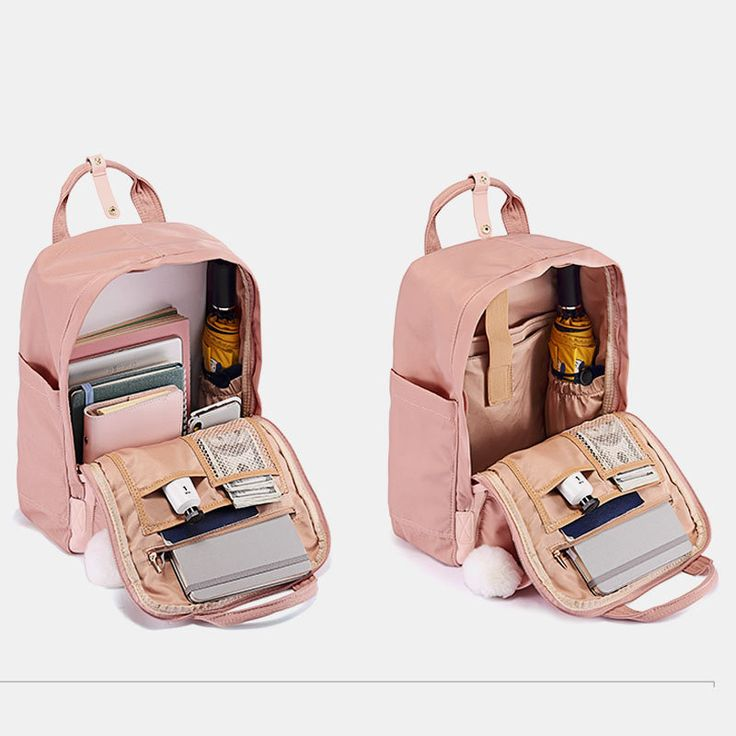nylon: (17, 160, 718, 630)
